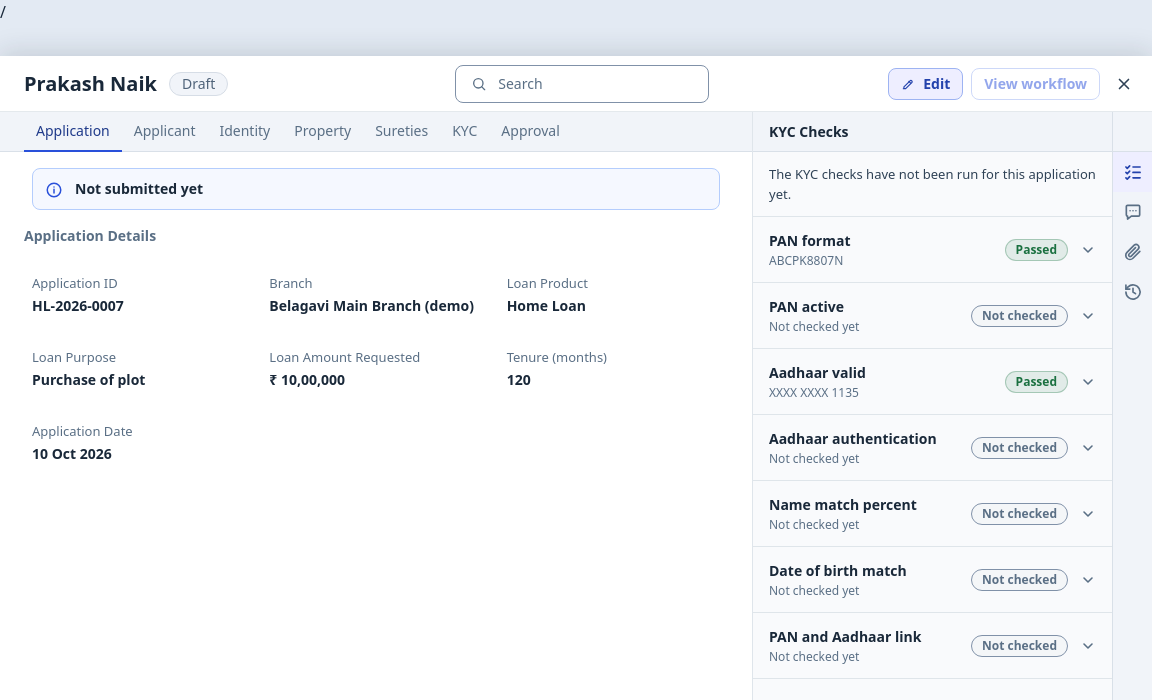
Scenario: the panel › shows the status and the folder of a record that is a draft: Draft
Click the button named "Files and Attachments".
click(1132, 252)  # box x1=1113 y1=232 x2=1151 y2=272
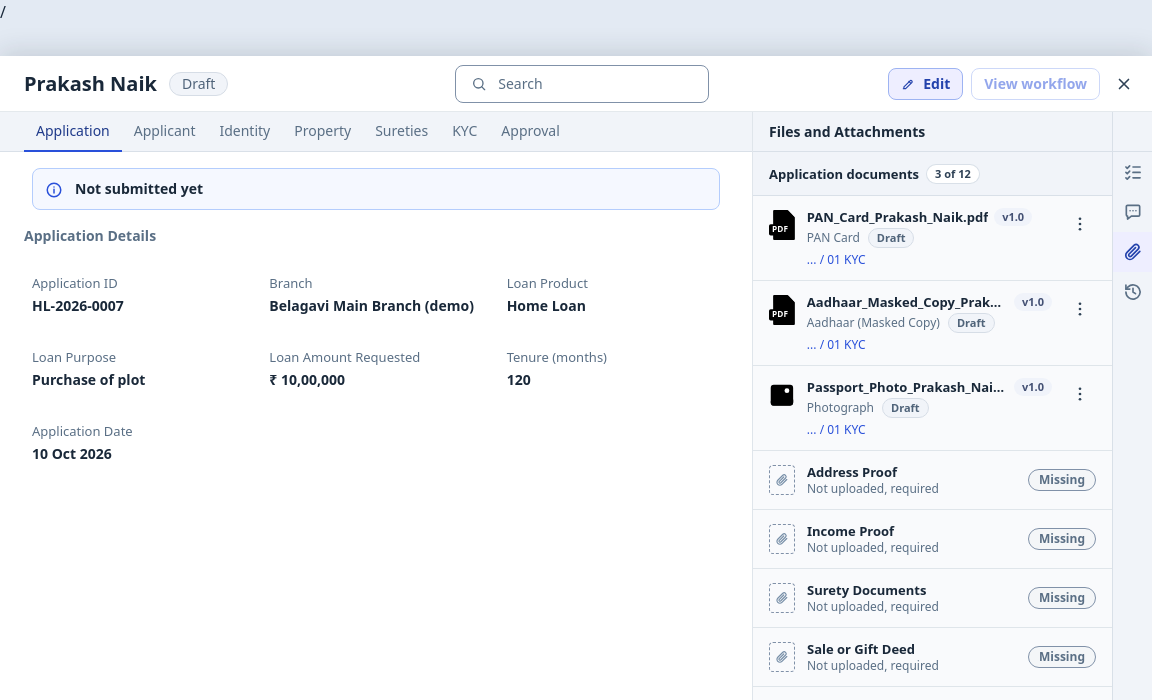
Expected: the text "Draft" next to "PAN Card" is shown, x1=877 y1=230 x2=905 y2=245
